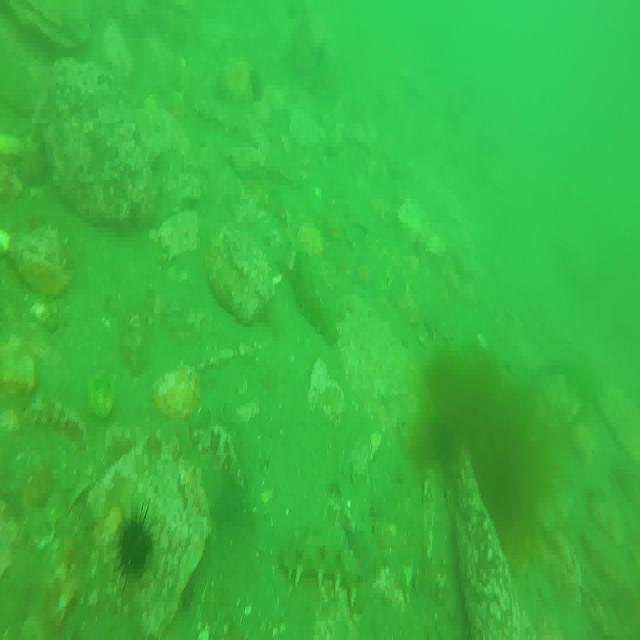echinus: (117, 515, 152, 575), (243, 74, 264, 113)
holothurian: (283, 524, 362, 594), (289, 244, 332, 344)
